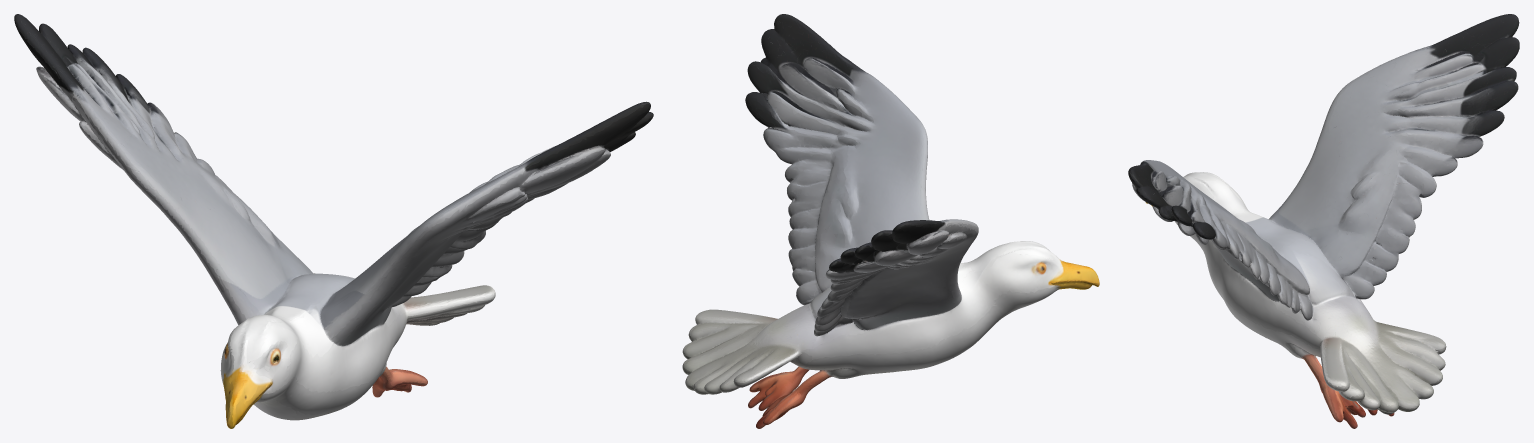
3 views of the same model, side by side, from view 1: azimuth 30°, elevation 25°; view 2: azimuth 150°, elevation 25°; view 3: azimuth 270°, elevation 25° (orthographic). The views are drawn at different scales.
Parts seen in each view (by area): view 1: geometry_0; view 2: geometry_0; view 3: geometry_0.
Boxes of the visible parts, box(x1,y1,x2,y2) form: geometry_0: box(14, 14, 653, 428); geometry_0: box(682, 14, 1099, 428); geometry_0: box(1128, 14, 1519, 428).
Size of the model in its own units: 1.3 by 1.1 by 1.3.
Materials: 1 (1 with a texture image).
